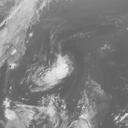cyclone: (27, 46, 75, 89)
